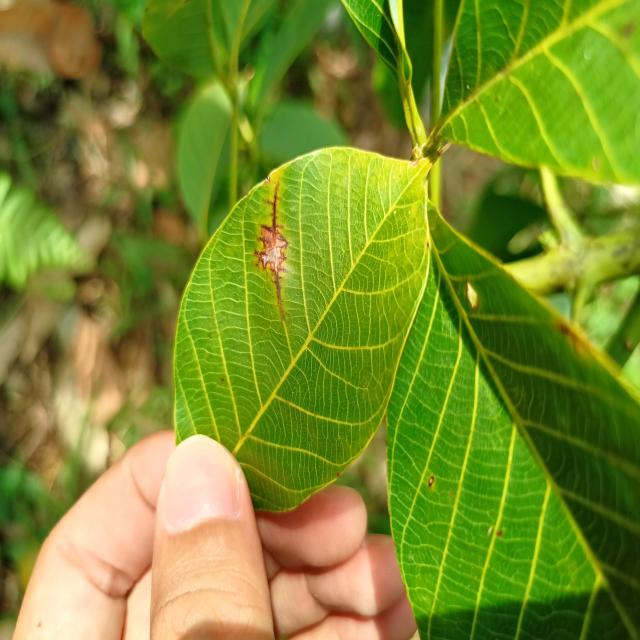Colletotrichum: (428, 475, 434, 486)
Corynespora: (255, 181, 291, 320)
